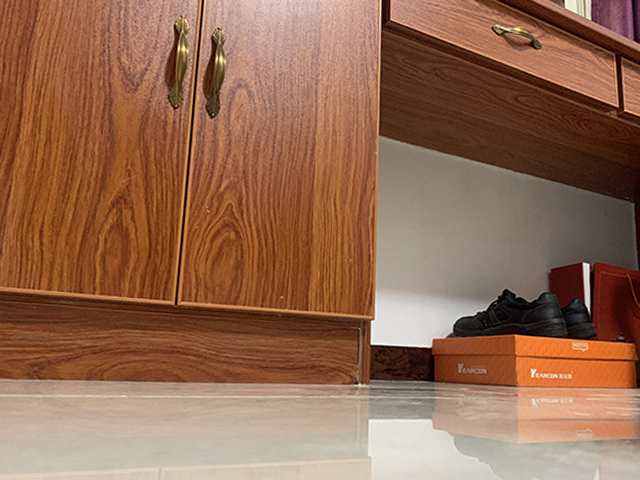cabinet: (1, 1, 383, 387)
